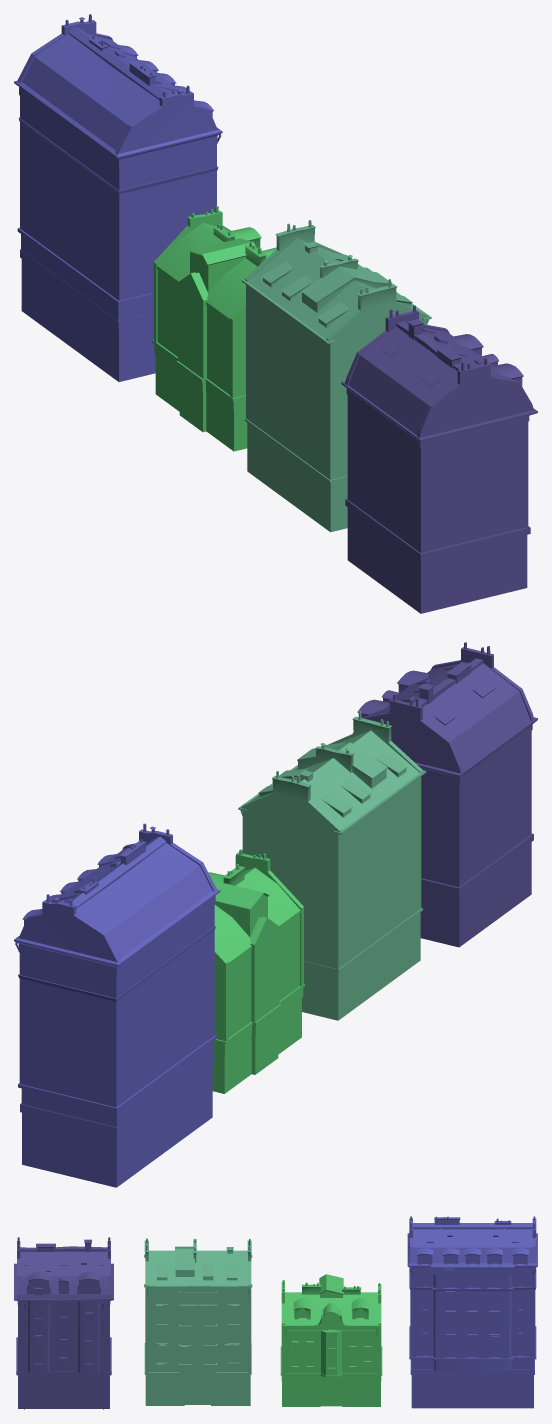
File: build.fbx
3 views of the same model, one above another, from view 1: azimuth 30°, elevation 25°; view 2: azimuth 150°, elevation 25°; view 3: azimuth 270°, elevation 25° (orthographic). The views are drawn at different scales.
Parts seen in each view (by area): view 1: build_HL_ALEX:build4, build_HL_ALEX:build1, build_HL_ALEX:build2, build_HL_ALEX:build3; view 2: build_HL_ALEX:build4, build_HL_ALEX:build2, build_HL_ALEX:build1, build_HL_ALEX:build3; view 3: build_HL_ALEX:build4, build_HL_ALEX:build2, build_HL_ALEX:build1, build_HL_ALEX:build3.
Boxes of the visible parts, bbox=[...] form: build_HL_ALEX:build4: bbox=[14, 14, 222, 381]; build_HL_ALEX:build1: bbox=[341, 305, 537, 613]; build_HL_ALEX:build2: bbox=[241, 220, 431, 532]; build_HL_ALEX:build3: bbox=[152, 206, 276, 451]; build_HL_ALEX:build4: bbox=[14, 823, 220, 1187]; build_HL_ALEX:build2: bbox=[238, 711, 426, 1020]; build_HL_ALEX:build1: bbox=[353, 642, 537, 947]; build_HL_ALEX:build3: bbox=[208, 849, 304, 1093]; build_HL_ALEX:build4: bbox=[407, 1216, 537, 1408]; build_HL_ALEX:build2: bbox=[144, 1238, 252, 1405]; build_HL_ALEX:build1: bbox=[14, 1237, 113, 1409]; build_HL_ALEX:build3: bbox=[280, 1274, 382, 1406].
Bounding box in the file's own units: 42.44 × 95.93 × 255.
